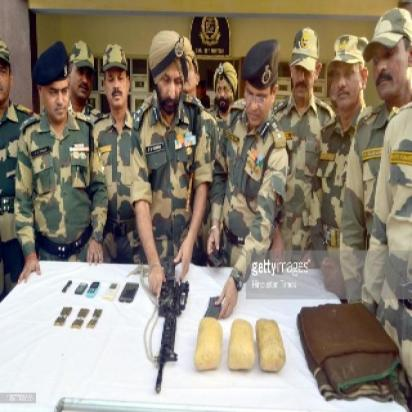Gun: (143, 247, 180, 392)
